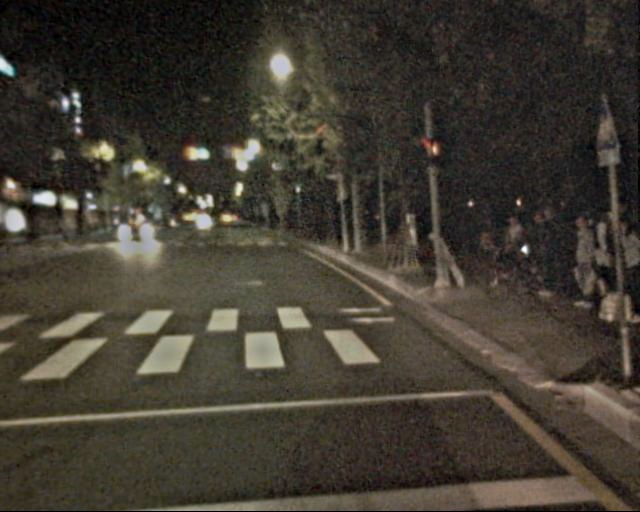person: (506, 209, 561, 295), (587, 206, 626, 300), (566, 216, 604, 309), (609, 214, 640, 325)
